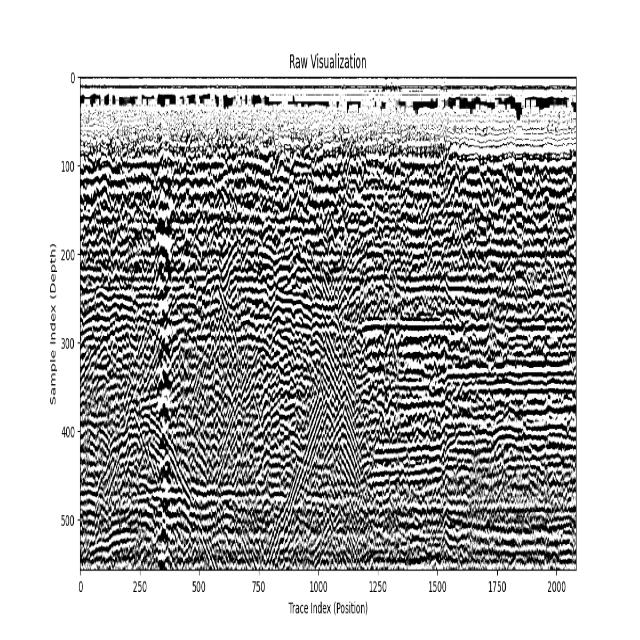anomaly: (265, 314, 374, 561), (155, 164, 169, 568)
